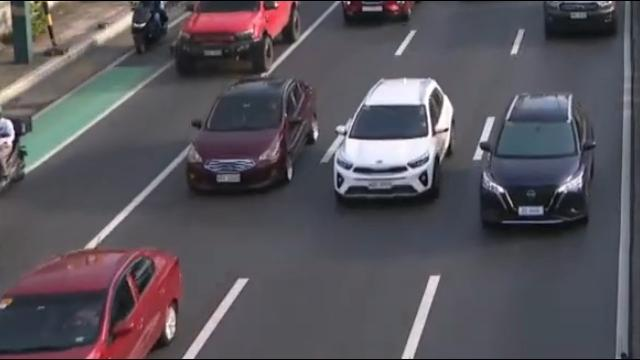car: (0, 235, 195, 360), (178, 73, 326, 211), (470, 87, 606, 236), (328, 72, 466, 215), (171, 0, 307, 81)
motorcycle: (0, 104, 34, 193), (131, 0, 172, 54)
